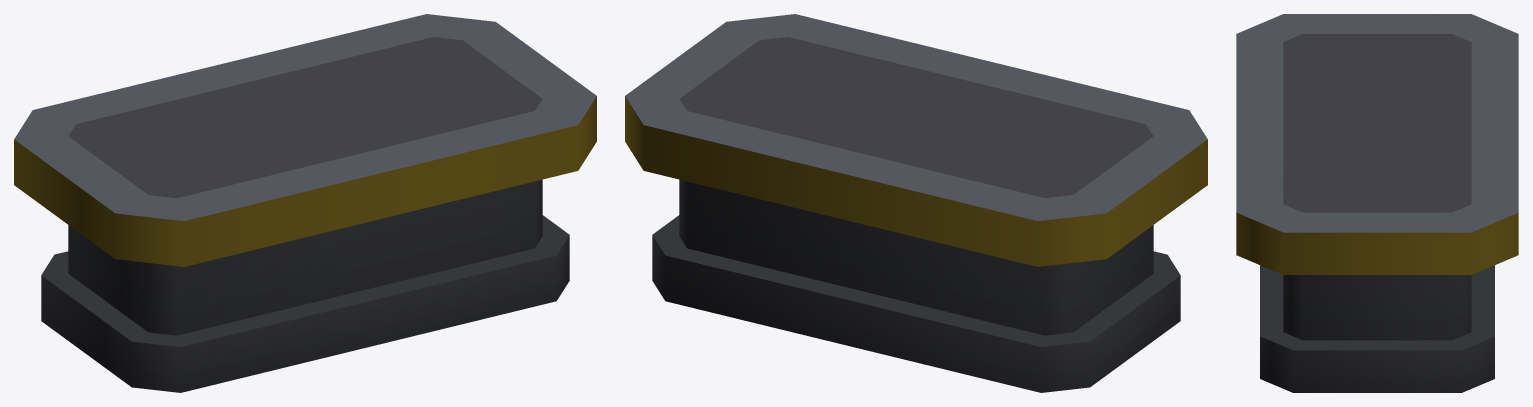
Rendered from s_table.glb.
The picture shows the model from 3 angles, left to right: view 1: azimuth 30°, elevation 25°; view 2: azimuth 150°, elevation 25°; view 3: azimuth 270°, elevation 25°; orthographic projection. The views are drawn at different scales.
Parts seen in each view (by area): view 1: table; view 2: table; view 3: table.
Boxes of the visible parts, bbox=[...] form: table: bbox=[14, 14, 596, 392]; table: bbox=[625, 14, 1207, 392]; table: bbox=[1236, 14, 1518, 392].
Bounding box in the file's own units: 1.1 × 0.4 × 0.6.
Materials: 1 (1 with a texture image).
